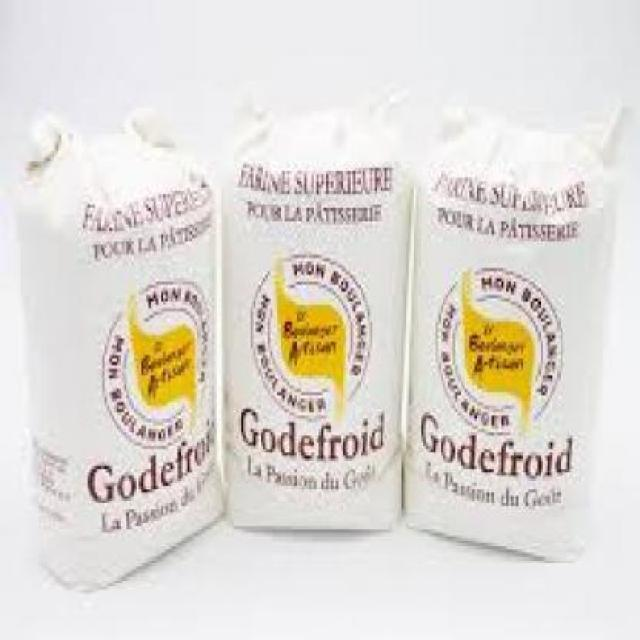gunny_bag: (406, 97, 637, 560), (20, 112, 225, 592), (220, 88, 423, 535)
